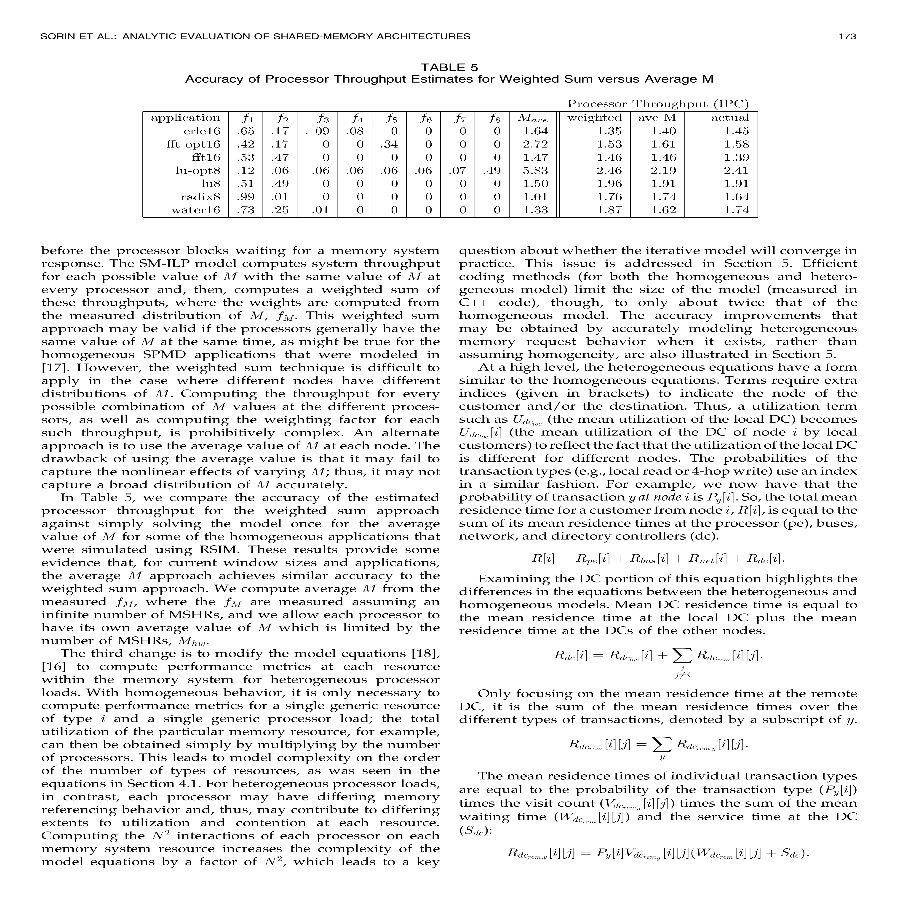eq: (552, 644, 761, 681), (503, 844, 807, 867), (568, 731, 745, 763), (527, 549, 784, 569)
